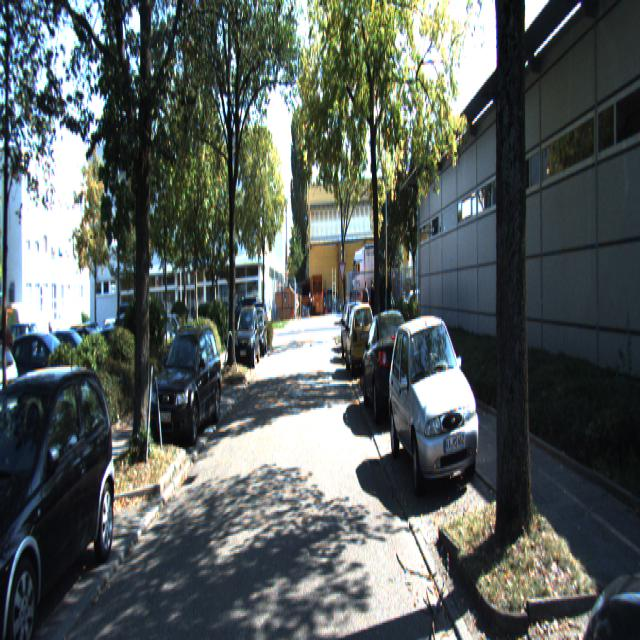Car: (0, 354, 121, 638), (387, 306, 485, 498), (583, 304, 639, 638), (149, 319, 223, 447), (361, 304, 420, 426), (344, 303, 378, 381), (234, 303, 261, 368), (340, 298, 366, 364), (248, 304, 267, 356)
